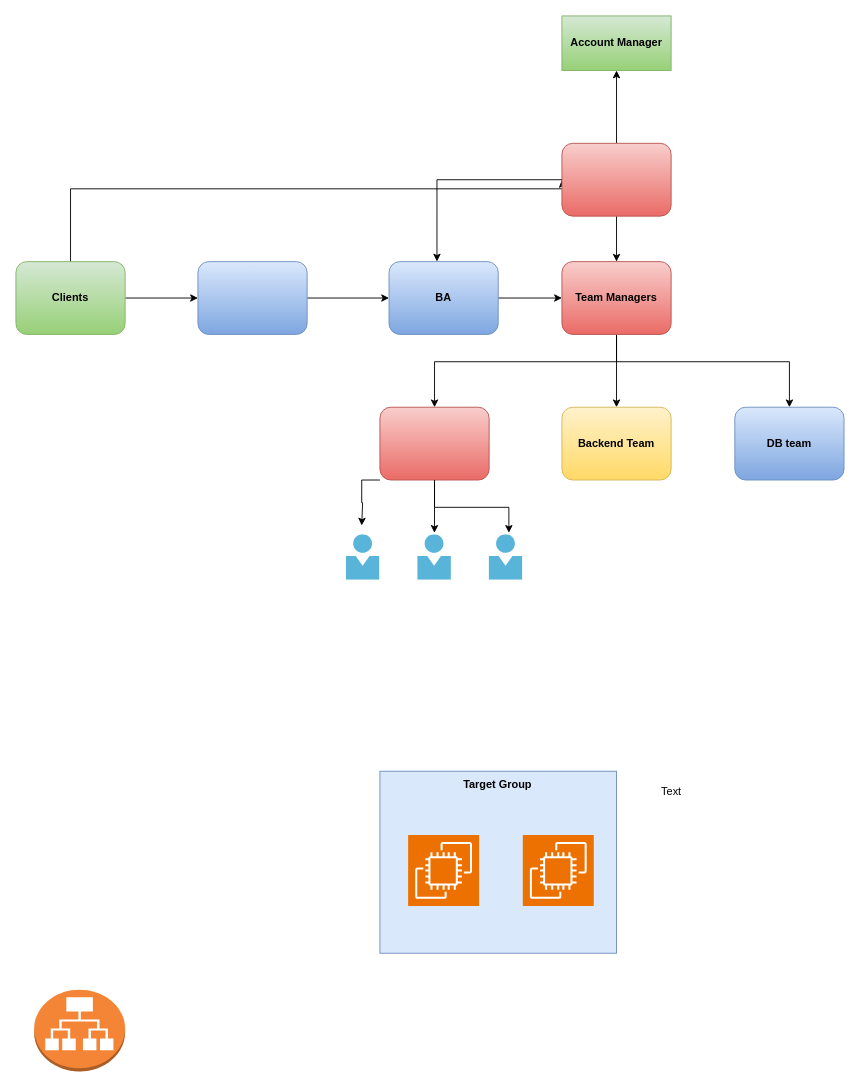
Some shapes in this 860 by 1087 pixel diagram are drawn without their labels. Each missing label, with the centre of its shape:
"Client BA" belongs at point 252,297.
"DM" belongs at point 616,179.
"UI Team" belongs at point 434,443.
